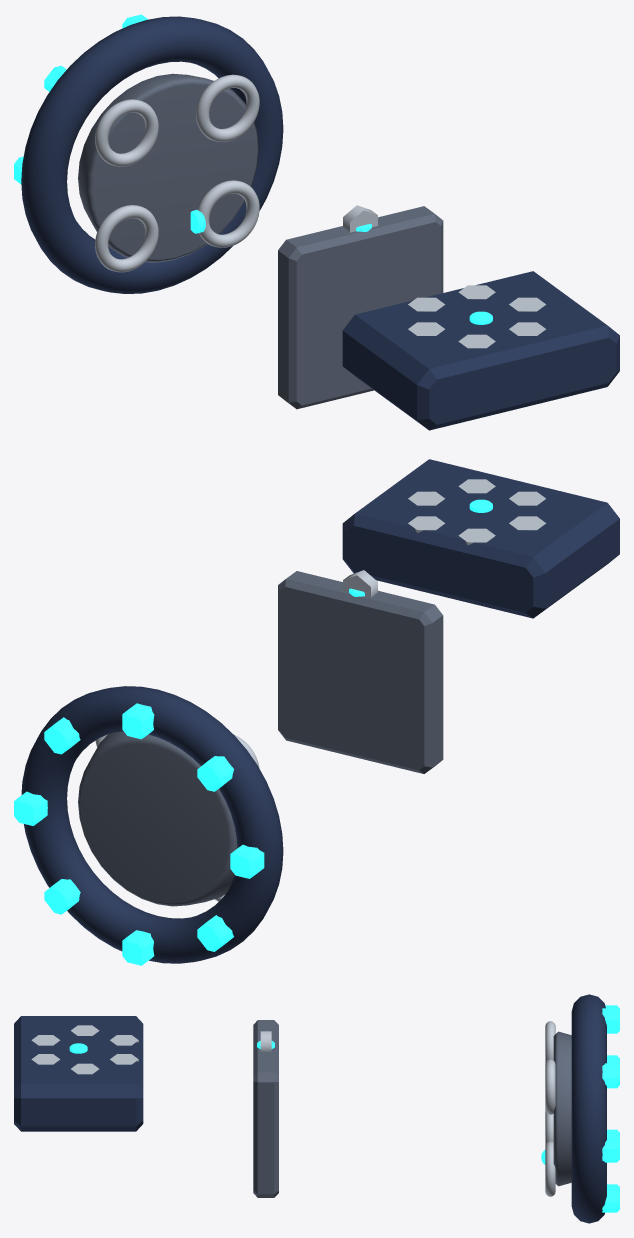
File: tower_skywatch_damage_s5.glb
3 renders of one model, top to bottom at view 1: azimuth 30°, elevation 25°; view 2: azimuth 150°, elevation 25°; view 3: azimuth 270°, elevation 25°, orthographic. The views are drawn at different scales.
Parts seen in each view (by area): view 1: skywatch_housing_armour, skywatch_fuse_ring, skywatch_barrel_clamp_b, skywatch_fuse_collar, skywatch_armour_bolts, skywatch_crown3, skywatch_crown1, skywatch_crown2, skywatch_crown0, skywatch_clamp_b_bolts; view 2: skywatch_barrel_clamp_b, skywatch_housing_armour, skywatch_fuse_ring, skywatch_fuse_collar, skywatch_armour_bolts, skywatch_fuse_node0, skywatch_fuse_node2, skywatch_fuse_node1, skywatch_fuse_node6, skywatch_fuse_node4, skywatch_fuse_node5, skywatch_fuse_node3 (+1 smaller); view 3: skywatch_housing_armour, skywatch_fuse_ring, skywatch_barrel_clamp_b, skywatch_fuse_collar, skywatch_armour_bolts, skywatch_crown1, skywatch_crown0, skywatch_fuse_node3, skywatch_fuse_node4, skywatch_fuse_node2, skywatch_fuse_node5, skywatch_crown3.
Part boxes in pixels (x1,y1,x2,y2): skywatch_housing_armour: (342,271,619,430); skywatch_fuse_ring: (21,16,283,293); skywatch_barrel_clamp_b: (278,206,443,409); skywatch_fuse_collar: (78,73,258,262); skywatch_armour_bolts: (408,285,545,348); skywatch_crown3: (95,99,158,166); skywatch_crown1: (196,74,259,141); skywatch_crown2: (95,205,158,272); skywatch_crown0: (197,180,259,247); skywatch_clamp_b_bolts: (343,205,377,232); skywatch_barrel_clamp_b: (278,571,443,773); skywatch_housing_armour: (342,459,619,618); skywatch_fuse_ring: (21,686,283,963); skywatch_fuse_collar: (78,731,237,906); skywatch_armour_bolts: (408,479,546,545); skywatch_fuse_node0: (230,844,264,878); skywatch_fuse_node2: (122,703,154,739); skywatch_fuse_node1: (197,756,233,791); skywatch_fuse_node6: (122,930,154,965); skywatch_fuse_node4: (14,791,47,825); skywatch_fuse_node5: (44,879,80,914); skywatch_fuse_node3: (44,717,80,754); skywatch_housing_armour: (14,1016,143,1131); skywatch_fuse_ring: (571,994,606,1223); skywatch_barrel_clamp_b: (253,1020,278,1197); skywatch_fuse_collar: (553,1031,571,1186); skywatch_armour_bolts: (31,1025,138,1074); skywatch_crown1: (545,1059,555,1114); skywatch_crown0: (545,1141,555,1196); skywatch_fuse_node3: (602,1063,619,1088); skywatch_fuse_node4: (602,1137,619,1162); skywatch_fuse_node2: (602,1008,619,1033); skywatch_fuse_node5: (602,1187,619,1212); skywatch_crown3: (545,1021,555,1063).
Size of the model in its own units: 0.71 by 0.71 by 1.88.
